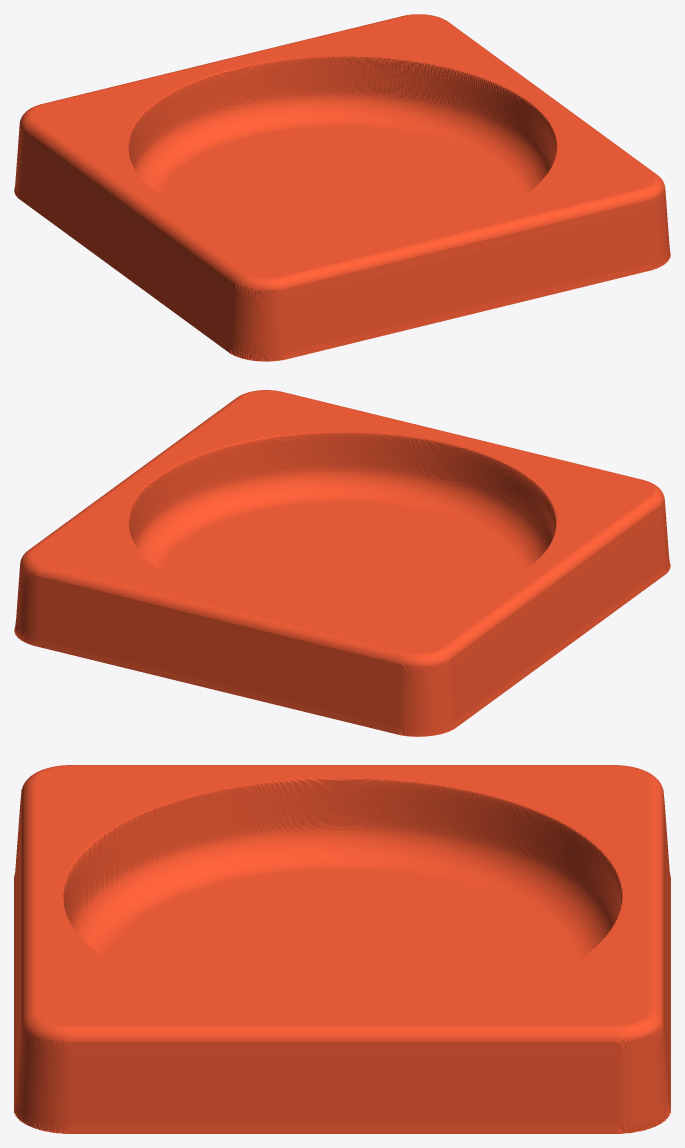
The model's file is mold.glb.
The picture shows the model from 3 angles, top to bottom: view 1: azimuth 30°, elevation 25°; view 2: azimuth 150°, elevation 25°; view 3: azimuth 270°, elevation 25°; orthographic projection. The views are drawn at different scales.
Parts seen in each view (by area): view 1: geometry_0; view 2: geometry_0; view 3: geometry_0.
Boxes of the visible parts, bbox=[...] form: geometry_0: bbox=[14, 14, 670, 361]; geometry_0: bbox=[14, 390, 670, 736]; geometry_0: bbox=[14, 765, 670, 1133].
Bounding box in the file's own units: 0.105 × 0.0175 × 0.105.
